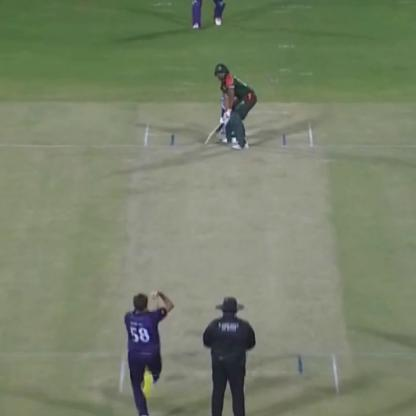bat: (201, 115, 230, 145)
pitch: (116, 128, 342, 401)
